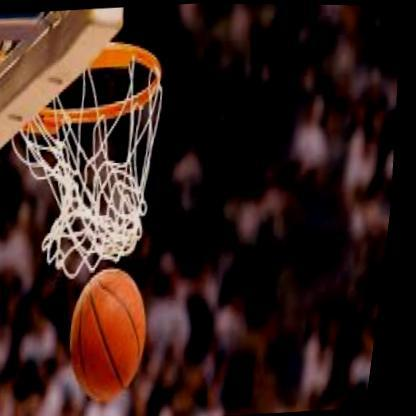basketball: (68, 267, 165, 400)
rim: (0, 36, 182, 279)
